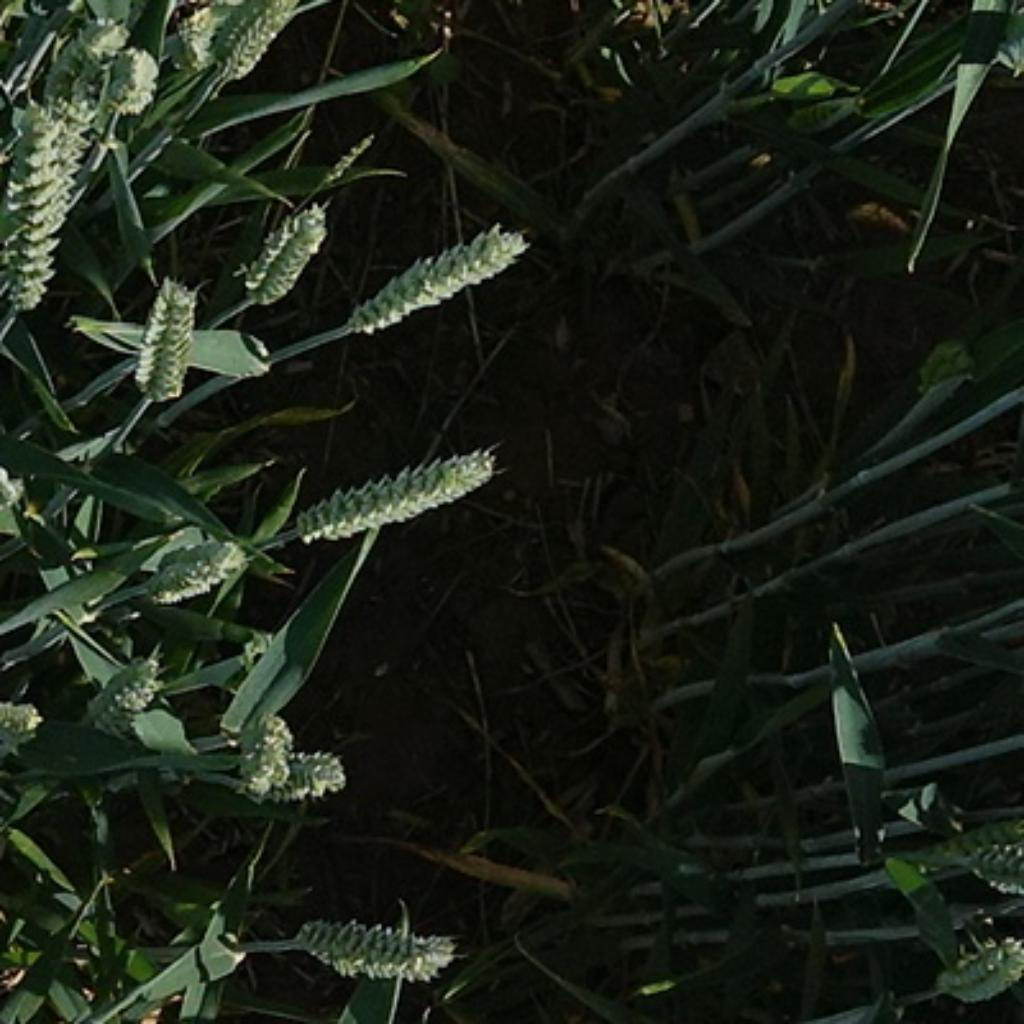0-0: (327, 199, 542, 343), (276, 424, 514, 547), (0, 74, 94, 320), (271, 901, 468, 988), (232, 189, 335, 304), (125, 258, 204, 407), (138, 517, 253, 606), (30, 20, 128, 120), (220, 709, 299, 803), (79, 647, 168, 729), (215, 2, 296, 92), (936, 936, 1018, 1016), (942, 829, 1024, 902), (914, 330, 978, 417), (775, 86, 865, 145), (266, 746, 350, 803), (97, 46, 158, 120), (0, 678, 43, 747)
